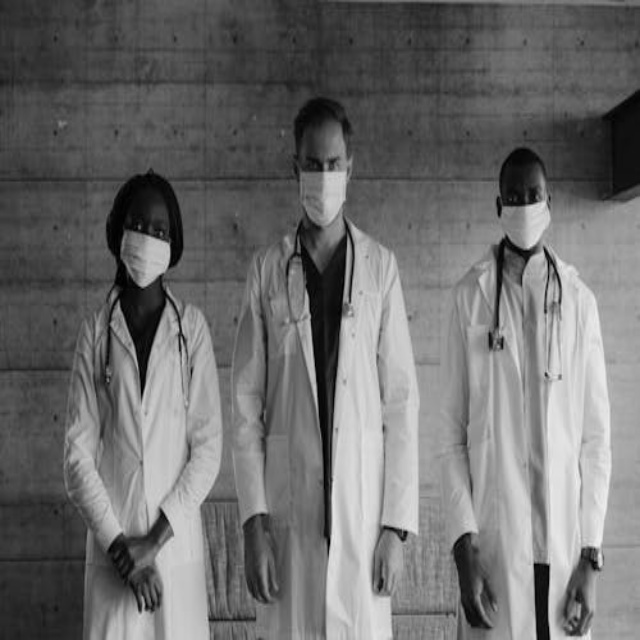Mascara: (120, 229, 172, 287), (298, 166, 348, 225), (499, 199, 550, 251)
Sin_gafas: (124, 210, 175, 245), (502, 178, 548, 210), (297, 147, 349, 174)
Sin_guantes: (454, 537, 500, 631), (562, 553, 602, 637), (243, 520, 281, 603), (125, 554, 165, 614), (373, 530, 405, 597), (107, 534, 136, 584)
